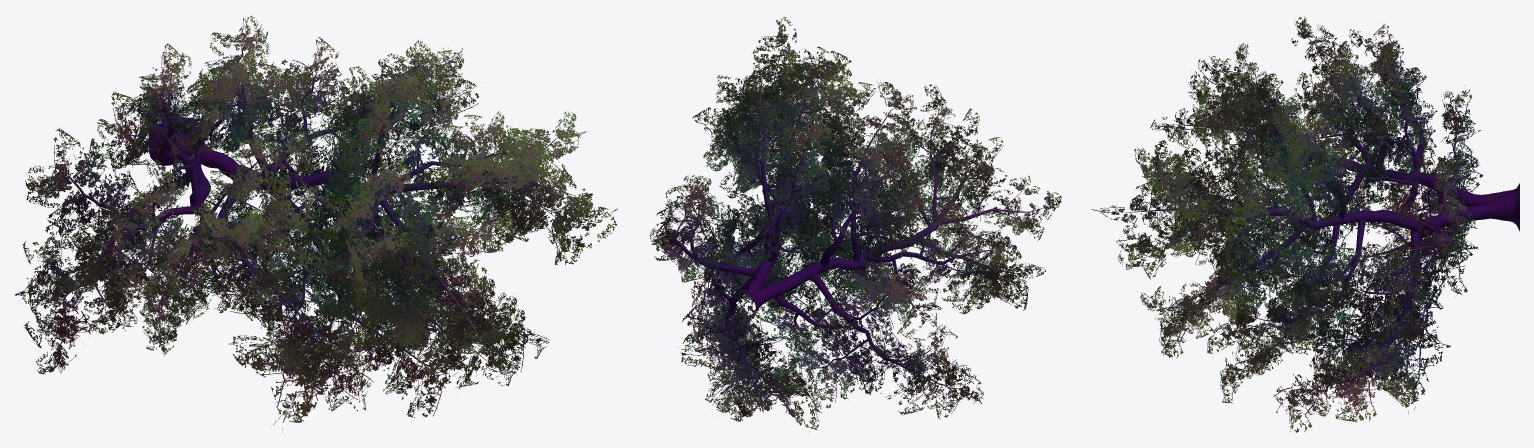
The model's file is oak_large_oak_tree_003_lod0.glb.
The picture shows the model from 3 angles, left to right: view 1: azimuth 30°, elevation 25°; view 2: azimuth 150°, elevation 25°; view 3: azimuth 270°, elevation 25°; orthographic projection. The views are drawn at different scales.
Visible parts, largest first — view 1: Large_oak_tree_003_LOD0; view 2: Large_oak_tree_003_LOD0; view 3: Large_oak_tree_003_LOD0.
Boxes of the visible parts, bbox=[...] form: Large_oak_tree_003_LOD0: bbox=[15, 15, 617, 432]; Large_oak_tree_003_LOD0: bbox=[649, 16, 1061, 432]; Large_oak_tree_003_LOD0: bbox=[1091, 16, 1519, 432].
Bounding box in the file's own units: 28.62 × 25.76 × 27.96.
2 materials, 2 textured.
